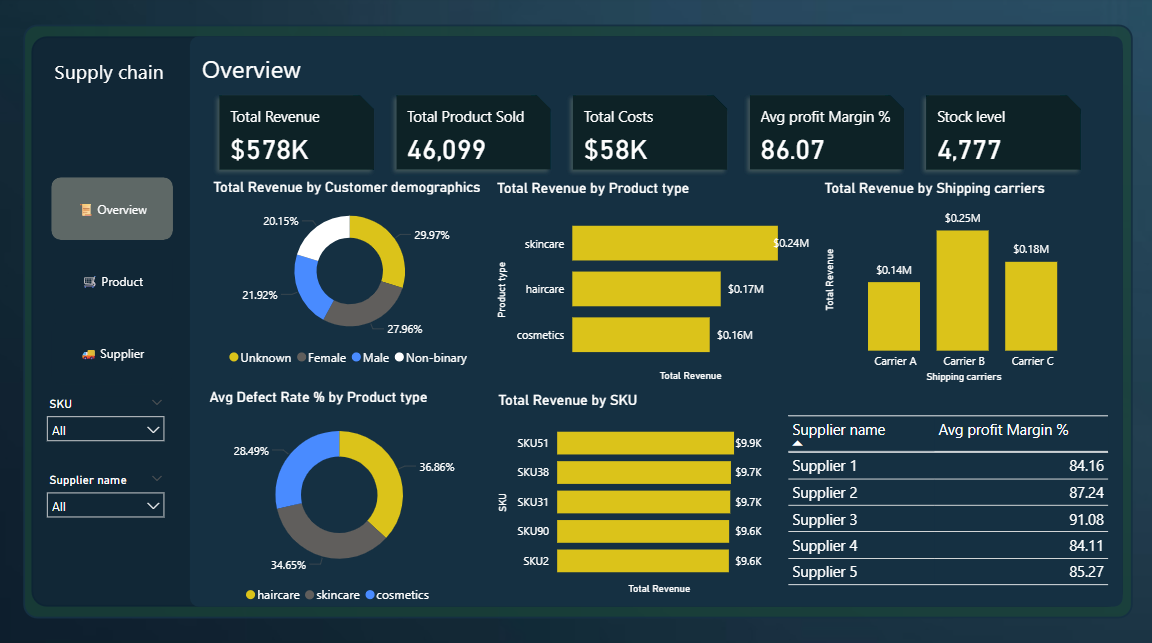

The dashboard page shown, as its layout file describes it:
{"tool":"powerbi","page":{"name":"📜   Overview","canvas":[1280,720],"ordinal":0},"visuals":[{"type":"cardVisual","fields":{"Data":["_Measures.Total Revenue","_Measures.Total Product Sold","_Measures.Total Costs","_Measures.Avg profit Margin %","_Measures.Stock level"]},"box":[233.3,96.1,975.6,108.4],"z":0},{"type":"pageNavigator","box":[61.8,198.9,134.5,229.2],"z":0,"group":"g1"},{"type":"donutChart","fields":{"Y":["_Measures.Total Revenue"],"Category":["supply_chain_data.Customer demographics"]},"box":[234.6,200.3,310.1,215.4],"z":1000},{"type":"slicer","fields":{"Values":["supply_chain_data.SKU"]},"box":[46.7,435,149.6,71.4],"z":1000,"group":"g1"},{"type":"donutChart","fields":{"Category":["supply_chain_data.Product type"],"Y":["_Measures.Avg Defect Rate %"]},"box":[230.5,431.2,295,245.6],"z":2000},{"type":"slicer","fields":{"Values":["supply_chain_data.Supplier name"]},"box":[46.7,518.7,149.6,71.4],"z":2000,"group":"g1"},{"type":"textbox","box":[60.4,57.6,161.9,82.3],"z":3000,"group":"g1"},{"type":"clusteredBarChart","fields":{"Y":["_Measures.Total Revenue"],"Category":["supply_chain_data.Product type"]},"box":[546.1,201.7,352.7,226.4],"z":3000},{"type":"clusteredBarChart","fields":{"Y":["_Measures.Total Revenue"],"Category":["supply_chain_data.SKU"]},"box":[547.5,435,299.1,226.4],"z":4000},{"type":"columnChart","fields":{"Y":["_Measures.Total Revenue"],"Category":["supply_chain_data.Shipping carriers"]},"box":[905.7,201.7,299.1,227.8],"z":5000},{"type":"tableEx","fields":{"Values":["supply_chain_data.Supplier name","_Measures.Avg profit Margin %"]},"box":[864.3,455.7,362.9,208.6],"z":6000},{"type":"textbox","box":[222.3,56.3,452.8,81],"z":7000},{"type":"group","id":"g1","title":"Group 1","box":[46.7,57.6,175.6,532.4],"z":8004}]}

Visuals, with their boxes in screenshot pixels (x1, y1, x2, y2), scaled from the page's 1280x720 canvas onto the 1152x643 screenshot:
cardVisual - _Measures.Total Revenue x _Measures.Total Product Sold: region(210, 86, 1088, 183)
pageNavigator: region(56, 178, 177, 382)
donutChart - _Measures.Total Revenue x supply_chain_data.Customer demographics: region(211, 179, 490, 371)
slicer - supply_chain_data.SKU: region(42, 388, 177, 452)
donutChart - supply_chain_data.Product type x _Measures.Avg Defect Rate %: region(207, 385, 473, 604)
slicer - supply_chain_data.Supplier name: region(42, 463, 177, 527)
textbox: region(54, 51, 200, 125)
clusteredBarChart - _Measures.Total Revenue x supply_chain_data.Product type: region(491, 180, 809, 382)
clusteredBarChart - _Measures.Total Revenue x supply_chain_data.SKU: region(493, 388, 762, 591)
columnChart - _Measures.Total Revenue x supply_chain_data.Shipping carriers: region(815, 180, 1084, 384)
tableEx - supply_chain_data.Supplier name x _Measures.Avg profit Margin %: region(778, 407, 1104, 593)
textbox: region(200, 50, 608, 123)
"Group 1" group: region(42, 51, 200, 527)
